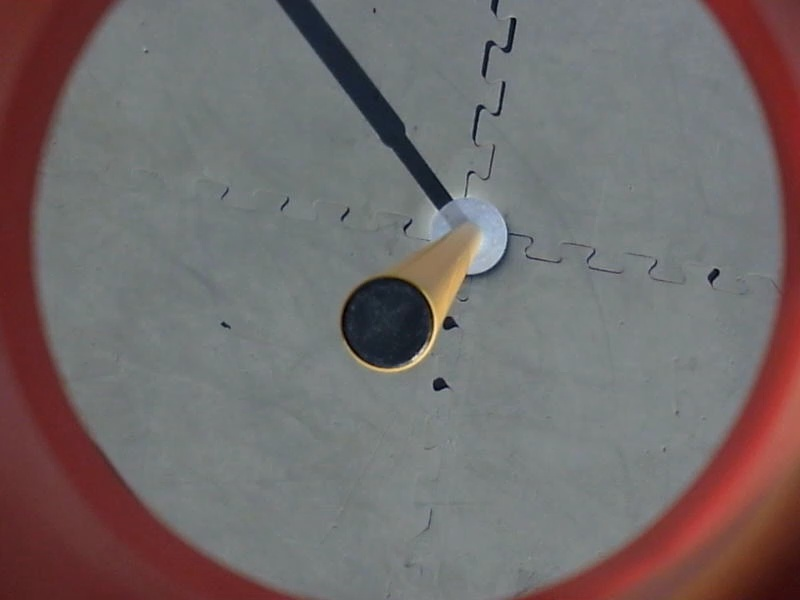tip: (336, 273, 443, 375)
